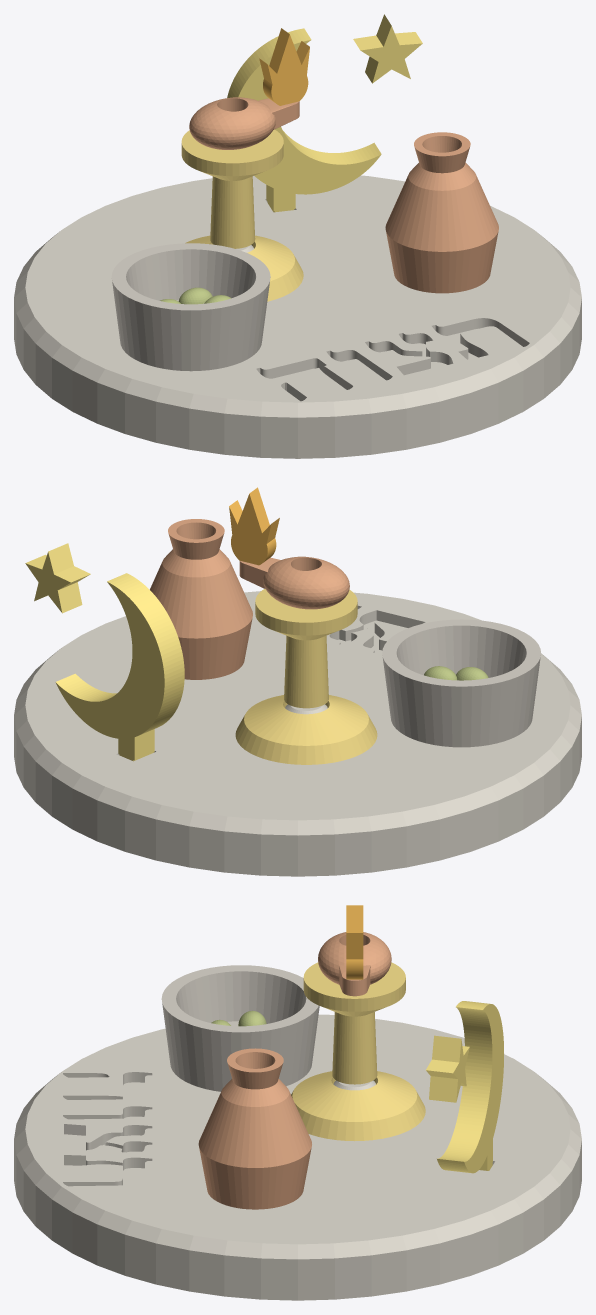
Rendered from tetzaveh.glb.
The picture shows the model from 3 angles, top to bottom: view 1: azimuth 30°, elevation 25°; view 2: azimuth 150°, elevation 25°; view 3: azimuth 270°, elevation 25°; orthographic projection.
Visible parts, largest first — view 1: stage, mortar, jug, moon, stand, lamp, lamp--flame, olives; view 2: stage, mortar, stand, moon, jug, lamp, lamp--flame, olives; view 3: stage, mortar, jug, stand, moon, lamp, lamp--flame.
Part boxes in pixels (x1=…): stage: x1=14, y1=175, x2=581, y2=458; mortar: x1=111, y1=243, x2=270, y2=371; jug: x1=385, y1=132, x2=498, y2=293; moon: x1=227, y1=14, x2=422, y2=212; stand: x1=181, y1=129, x2=303, y2=301; lamp: x1=189, y1=97, x2=299, y2=149; lamp--flame: x1=259, y1=28, x2=309, y2=105; olives: x1=160, y1=287, x2=231, y2=304; stage: x1=14, y1=591, x2=581, y2=876; mortar: x1=382, y1=619, x2=540, y2=747; stand: x1=235, y1=589, x2=377, y2=764; moon: x1=25, y1=543, x2=184, y2=761; jug: x1=150, y1=519, x2=252, y2=679; lamp: x1=239, y1=556, x2=349, y2=609; lamp--flame: x1=229, y1=487, x2=279, y2=565; olives: x1=424, y1=666, x2=488, y2=680; stage: x1=14, y1=1014, x2=581, y2=1300; mortar: x1=161, y1=965, x2=319, y2=1091; jug: x1=198, y1=1048, x2=311, y2=1209; stand: x1=291, y1=962, x2=425, y2=1141; moon: x1=426, y1=1001, x2=503, y2=1173; lamp: x1=318, y1=932, x2=391, y2=996; lamp--flame: x1=346, y1=905, x2=363, y2=979.
Bounding box in the file's own units: 40 × 22 × 40.
